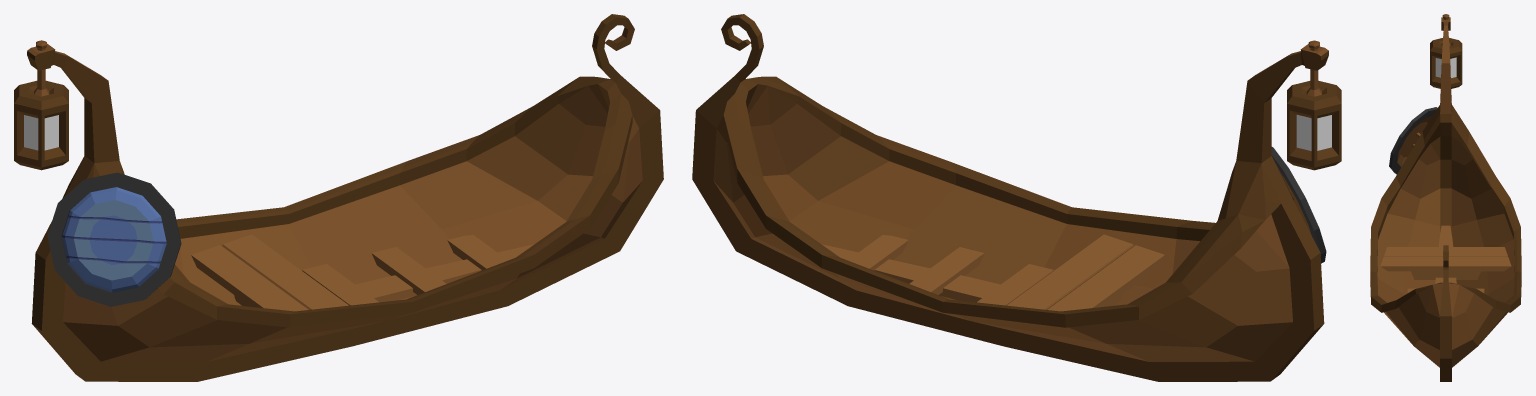
The model's file is D_Rowboat_Blue.fbx.
3 views of the same model, side by side, from view 1: azimuth 30°, elevation 25°; view 2: azimuth 150°, elevation 25°; view 3: azimuth 270°, elevation 25° (orthographic). The views are drawn at different scales.
Parts seen in each view (by area): view 1: D_Rowboat_Blue; view 2: D_Rowboat_Blue; view 3: D_Rowboat_Blue.
Part boxes in pixels (<box>): D_Rowboat_Blue: <box>14,14,663,381</box>; D_Rowboat_Blue: <box>692,14,1341,381</box>; D_Rowboat_Blue: <box>1370,14,1521,381</box>.
Size of the model in its own units: 439 by 244 by 152.
